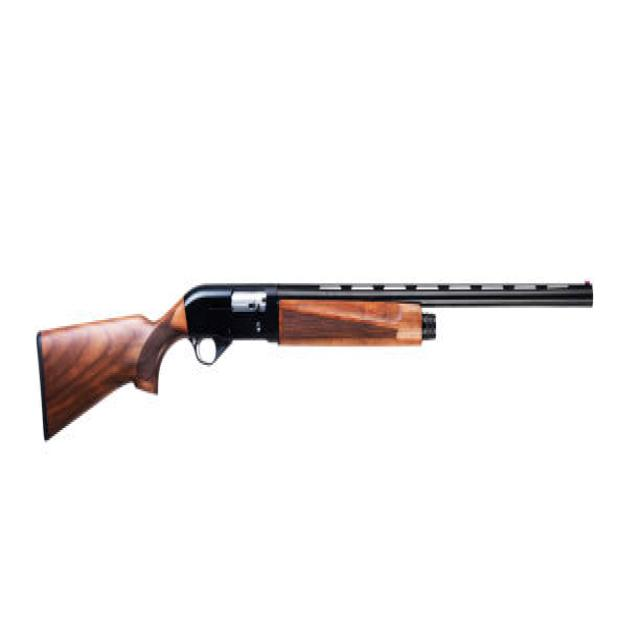rifle: (30, 272, 599, 455)
